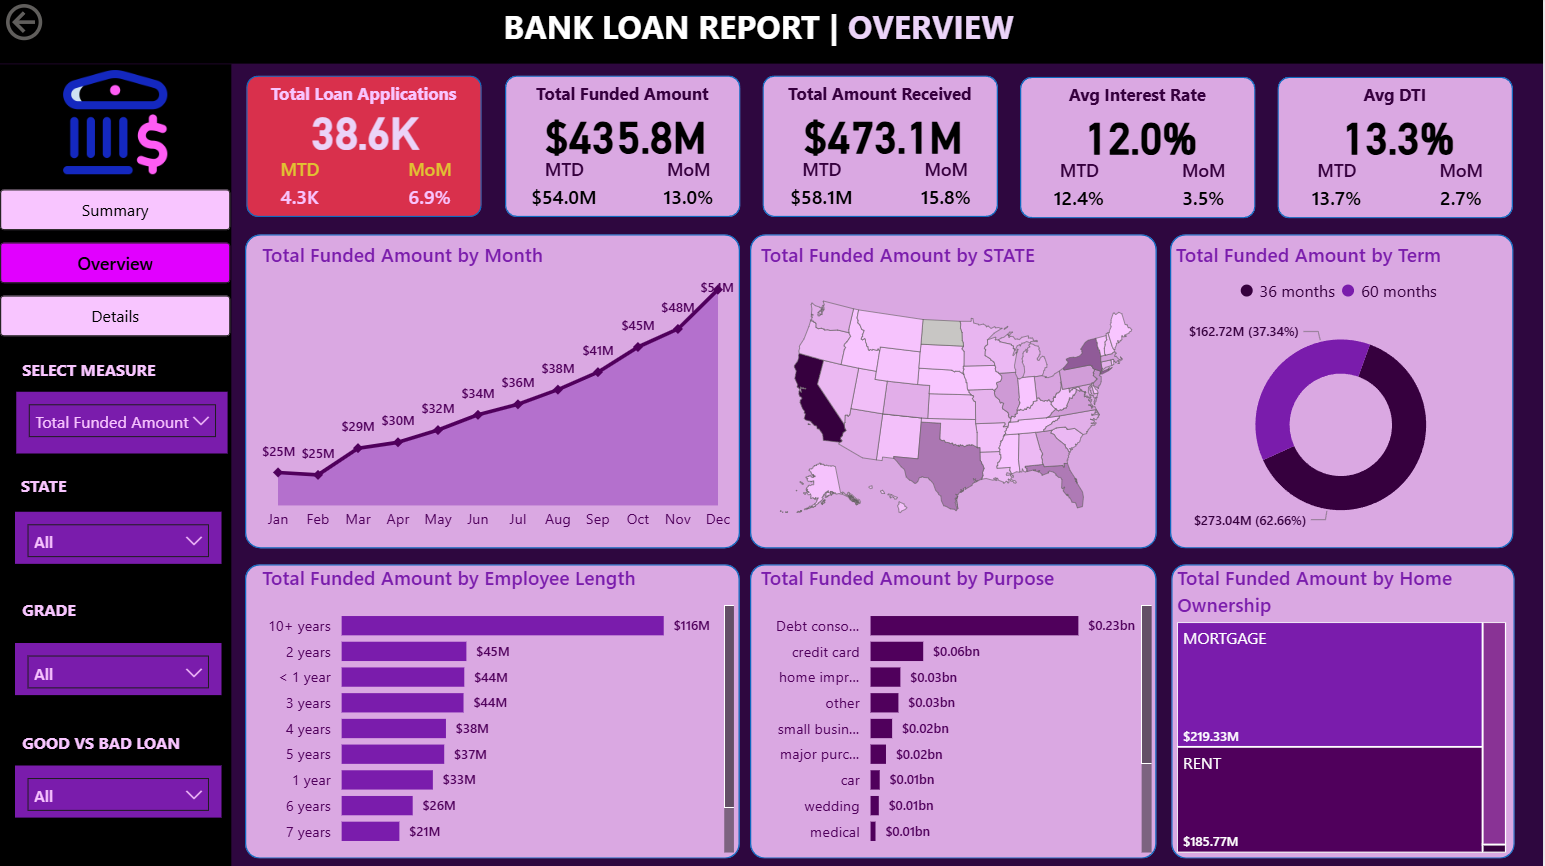

The page's visual inventory and layout, read from the dashboard file:
{"tool":"powerbi","page":{"name":"Overview","canvas":[1280,720],"ordinal":1},"visuals":[{"type":"shape","box":[0,0,1280.2,54.7],"z":0},{"type":"shape","box":[204.7,64,195.3,117.4],"z":0,"group":"g1"},{"type":"shape","box":[418.4,64.2,195.3,117.4],"z":0,"group":"g2"},{"type":"shape","box":[632,64.5,195.3,117.4],"z":0,"group":"g3"},{"type":"shape","box":[845.7,64.8,195.3,117.4],"z":0,"group":"g4"},{"type":"shape","box":[1059.3,65.1,195.3,117.4],"z":0,"group":"g5"},{"type":"shape","box":[0,54.7,191.9,665.1],"z":1000},{"type":"card","fields":{"Values":["financial_loan.Total Loan Applications"]},"box":[248.8,78,108.1,64],"z":1000,"group":"g1"},{"type":"card","fields":{"Values":["financial_loan.Total Funded Amount"]},"box":[443.7,84,148.8,58.1],"z":1000,"group":"g2"},{"type":"card","fields":{"Values":["financial_loan.Total Amount Received"]},"box":[657.3,84.3,148.8,58.1],"z":1000,"group":"g3"},{"type":"card","fields":{"Values":["financial_loan.Avg Interest Rate"]},"box":[871,84.6,148.8,58.1],"z":1000,"group":"g4"},{"type":"card","fields":{"Values":["financial_loan.Avg DTI"]},"box":[1084.6,84.9,148.8,58.1],"z":1000,"group":"g5"},{"type":"textbox","box":[203.5,64,196.5,30.2],"z":2000,"group":"g1"},{"type":"textbox","box":[417.2,64.2,196.5,30.2],"z":2000,"group":"g2"},{"type":"textbox","box":[630.8,64.5,196.5,30.2],"z":2000,"group":"g3"},{"type":"textbox","box":[844.5,64.8,196.5,30.2],"z":2000,"group":"g4"},{"type":"textbox","box":[1058.1,65.1,196.5,30.2],"z":2000,"group":"g5"},{"type":"shape","box":[203.5,195.3,410.5,260.5],"z":2000},{"type":"textbox","box":[412.8,0,454.7,64],"z":3000},{"type":"card","title":"MTD","fields":{"Values":["financial_loan.MTD Loan Applications"]},"box":[220.9,131.4,55.8,50],"z":3000,"group":"g1"},{"type":"card","title":"MTD","fields":{"Values":["financial_loan.MTD Funded Amount"]},"box":[434.4,131.7,65.1,50],"z":3000,"group":"g2"},{"type":"card","title":"MTD","fields":{"Values":["financial_loan.MTD Total Amount Received"]},"box":[648,132,65.1,50],"z":3000,"group":"g3"},{"type":"card","title":"MTD","fields":{"Values":["financial_loan.MTD Avg Interest Rate"]},"box":[861.7,132.3,65.1,50],"z":3000,"group":"g4"},{"type":"card","title":"MTD","fields":{"Values":["financial_loan.MTD Avg DTI"]},"box":[1075.3,132.6,65.1,50],"z":3000,"group":"g5"},{"type":"group","id":"g1","title":"Group 1","box":[203.5,64,196.5,117.4],"z":4000},{"type":"card","title":"MoM","fields":{"Values":["financial_loan.MOM Loan Applications"]},"box":[329.1,131.4,55.8,50],"z":4000,"group":"g1"},{"type":"card","title":"MoM","fields":{"Values":["financial_loan.MOM Funded Amount"]},"box":[542.8,131.6,55.8,50],"z":4000,"group":"g2"},{"type":"card","title":"MoM","fields":{"Values":["financial_loan.MOM Total Amount Recieved"]},"box":[756.4,131.9,55.8,50],"z":4000,"group":"g3"},{"type":"card","title":"MoM","fields":{"Values":["financial_loan.MOM Avg Interest Rate"]},"box":[970.1,132.2,55.8,50],"z":4000,"group":"g4"},{"type":"card","title":"MoM","fields":{"Values":["financial_loan.MOM Avg DTI"]},"box":[1183.7,132.5,55.8,50],"z":4000,"group":"g5"},{"type":"group","id":"g2","title":"Group 1","box":[417.2,64.2,196.5,117.4],"z":5000},{"type":"group","id":"g3","title":"Group 1","box":[630.8,64.5,196.5,117.4],"z":6000},{"type":"group","id":"g4","title":"Group 1","box":[844.5,64.8,196.5,117.4],"z":7000},{"type":"group","id":"g5","title":"Group 1","box":[1058.1,65.1,196.5,117.4],"z":8000},{"type":"actionButton","box":[0,0,100,40],"z":9000},{"type":"slicer","fields":{"Values":["financial_loan.address_state"]},"box":[12.3,425.6,170.9,43],"z":10000},{"type":"textbox","box":[12.3,390.7,64,32.6],"z":11000},{"type":"slicer","fields":{"Values":["financial_loan.grade"]},"box":[12.3,534.9,170.9,43],"z":12000},{"type":"textbox","box":[13.5,493,64,32.6],"z":13000},{"type":"slicer","fields":{"Values":["financial_loan.Good VS Bad Loan"]},"box":[12.3,636,170.9,43],"z":14000},{"type":"textbox","box":[13.5,603.5,157,32.6],"z":15000},{"type":"areaChart","fields":{"Y":["financial_loan.Total Funded Amount"],"Category":["Date Table.Month"]},"box":[212.8,201.2,401.2,248.8],"z":16000},{"type":"slicer","fields":{"Values":["Select Major.Select Major"]},"box":[13.5,326.7,175.6,51.2],"z":17000},{"type":"shape","box":[203.5,469.8,410.5,244.2],"z":18000},{"type":"textbox","box":[13.5,294.2,169.8,32.6],"z":19000},{"type":"shape","box":[622.1,195.3,337.2,260.5],"z":20000},{"type":"shapeMap","fields":{"Value":["financial_loan.Total Funded Amount"],"Category":["financial_loan.address_state"]},"box":[625.6,201.2,333.7,254.7],"z":21000},{"type":"shape","box":[969.8,195.3,284.9,260.5],"z":22000},{"type":"donutChart","fields":{"Y":["financial_loan.Total Funded Amount"],"Category":["financial_loan.term"]},"box":[969.8,201.2,283.7,254.7],"z":23000},{"type":"barChart","fields":{"Y":["financial_loan.Total Funded Amount"],"Category":["financial_loan.emp_length"]},"box":[212.8,469.8,401.2,244.2],"z":24000},{"type":"shape","box":[622.1,469.8,337.2,244.2],"z":25000},{"type":"shape","box":[970.9,469.8,284.9,244.2],"z":26000},{"type":"barChart","fields":{"Y":["financial_loan.Total Funded Amount"],"Category":["financial_loan.purpose"]},"box":[625.6,469.8,333.7,244.2],"z":27000},{"type":"treemap","fields":{"Values":["financial_loan.Total Funded Amount"],"Group":["financial_loan.home_ownership"]},"box":[970.9,469.8,282.6,244.2],"z":28000},{"type":"pageNavigator","box":[0,158.1,191.9,122.1],"z":29000},{"type":"image","box":[43,54.7,103.5,96.5],"z":30000}]}

Visuals, with their boxes in screenshot pixels (x1, y1, x2, y2), scaled from the page's 1280x720 canvas onto the 1545x866 screenshot:
shape: pyautogui.locateOnScreen(0, 0, 1544, 66)
shape: pyautogui.locateOnScreen(247, 77, 483, 218)
shape: pyautogui.locateOnScreen(505, 77, 741, 218)
shape: pyautogui.locateOnScreen(763, 78, 999, 219)
shape: pyautogui.locateOnScreen(1021, 78, 1257, 219)
shape: pyautogui.locateOnScreen(1279, 78, 1514, 220)
shape: pyautogui.locateOnScreen(0, 66, 232, 865)
card - financial_loan.Total Loan Applications: pyautogui.locateOnScreen(300, 94, 431, 171)
card - financial_loan.Total Funded Amount: pyautogui.locateOnScreen(536, 101, 715, 171)
card - financial_loan.Total Amount Received: pyautogui.locateOnScreen(793, 101, 973, 171)
card - financial_loan.Avg Interest Rate: pyautogui.locateOnScreen(1051, 102, 1231, 172)
card - financial_loan.Avg DTI: pyautogui.locateOnScreen(1309, 102, 1489, 172)
textbox: pyautogui.locateOnScreen(246, 77, 483, 113)
textbox: pyautogui.locateOnScreen(504, 77, 741, 114)
textbox: pyautogui.locateOnScreen(761, 78, 999, 114)
textbox: pyautogui.locateOnScreen(1019, 78, 1257, 114)
textbox: pyautogui.locateOnScreen(1277, 78, 1514, 115)
shape: pyautogui.locateOnScreen(246, 235, 741, 548)
textbox: pyautogui.locateOnScreen(498, 0, 1047, 77)
"MTD" card: pyautogui.locateOnScreen(267, 158, 334, 218)
"MTD" card: pyautogui.locateOnScreen(524, 158, 603, 219)
"MTD" card: pyautogui.locateOnScreen(782, 159, 861, 219)
"MTD" card: pyautogui.locateOnScreen(1040, 159, 1119, 219)
"MTD" card: pyautogui.locateOnScreen(1298, 159, 1376, 220)
"Group 1" group: pyautogui.locateOnScreen(246, 77, 483, 218)
"MoM" card: pyautogui.locateOnScreen(397, 158, 465, 218)
"MoM" card: pyautogui.locateOnScreen(655, 158, 723, 218)
"MoM" card: pyautogui.locateOnScreen(913, 159, 980, 219)
"MoM" card: pyautogui.locateOnScreen(1171, 159, 1238, 219)
"MoM" card: pyautogui.locateOnScreen(1429, 159, 1496, 220)
"Group 1" group: pyautogui.locateOnScreen(504, 77, 741, 218)
"Group 1" group: pyautogui.locateOnScreen(761, 78, 999, 219)
"Group 1" group: pyautogui.locateOnScreen(1019, 78, 1257, 219)
"Group 1" group: pyautogui.locateOnScreen(1277, 78, 1514, 220)
actionButton: pyautogui.locateOnScreen(0, 0, 121, 48)
slicer - financial_loan.address_state: pyautogui.locateOnScreen(15, 512, 221, 564)
textbox: pyautogui.locateOnScreen(15, 470, 92, 509)
slicer - financial_loan.grade: pyautogui.locateOnScreen(15, 643, 221, 695)
textbox: pyautogui.locateOnScreen(16, 593, 94, 632)
slicer - financial_loan.Good VS Bad Loan: pyautogui.locateOnScreen(15, 765, 221, 817)
textbox: pyautogui.locateOnScreen(16, 726, 206, 765)
areaChart - financial_loan.Total Funded Amount x Date Table.Month: pyautogui.locateOnScreen(257, 242, 741, 541)
slicer - Select Major.Select Major: pyautogui.locateOnScreen(16, 393, 228, 455)
shape: pyautogui.locateOnScreen(246, 565, 741, 859)
textbox: pyautogui.locateOnScreen(16, 354, 221, 393)
shape: pyautogui.locateOnScreen(751, 235, 1158, 548)
shapeMap - financial_loan.Total Funded Amount x financial_loan.address_state: pyautogui.locateOnScreen(755, 242, 1158, 548)
shape: pyautogui.locateOnScreen(1171, 235, 1514, 548)
donutChart - financial_loan.Total Funded Amount x financial_loan.term: pyautogui.locateOnScreen(1171, 242, 1513, 548)
barChart - financial_loan.Total Funded Amount x financial_loan.emp_length: pyautogui.locateOnScreen(257, 565, 741, 859)
shape: pyautogui.locateOnScreen(751, 565, 1158, 859)
shape: pyautogui.locateOnScreen(1172, 565, 1516, 859)
barChart - financial_loan.Total Funded Amount x financial_loan.purpose: pyautogui.locateOnScreen(755, 565, 1158, 859)
treemap - financial_loan.Total Funded Amount x financial_loan.home_ownership: pyautogui.locateOnScreen(1172, 565, 1513, 859)
pageNavigator: pyautogui.locateOnScreen(0, 190, 232, 337)
image: pyautogui.locateOnScreen(52, 66, 177, 182)
